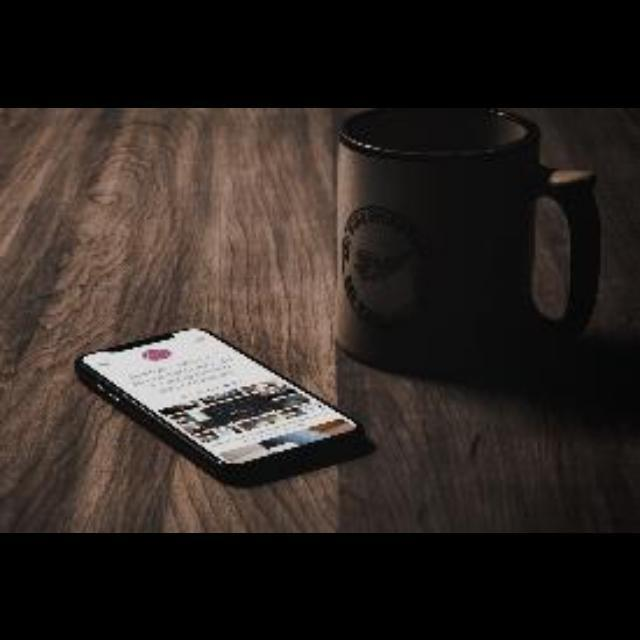phone: (82, 320, 368, 492)
